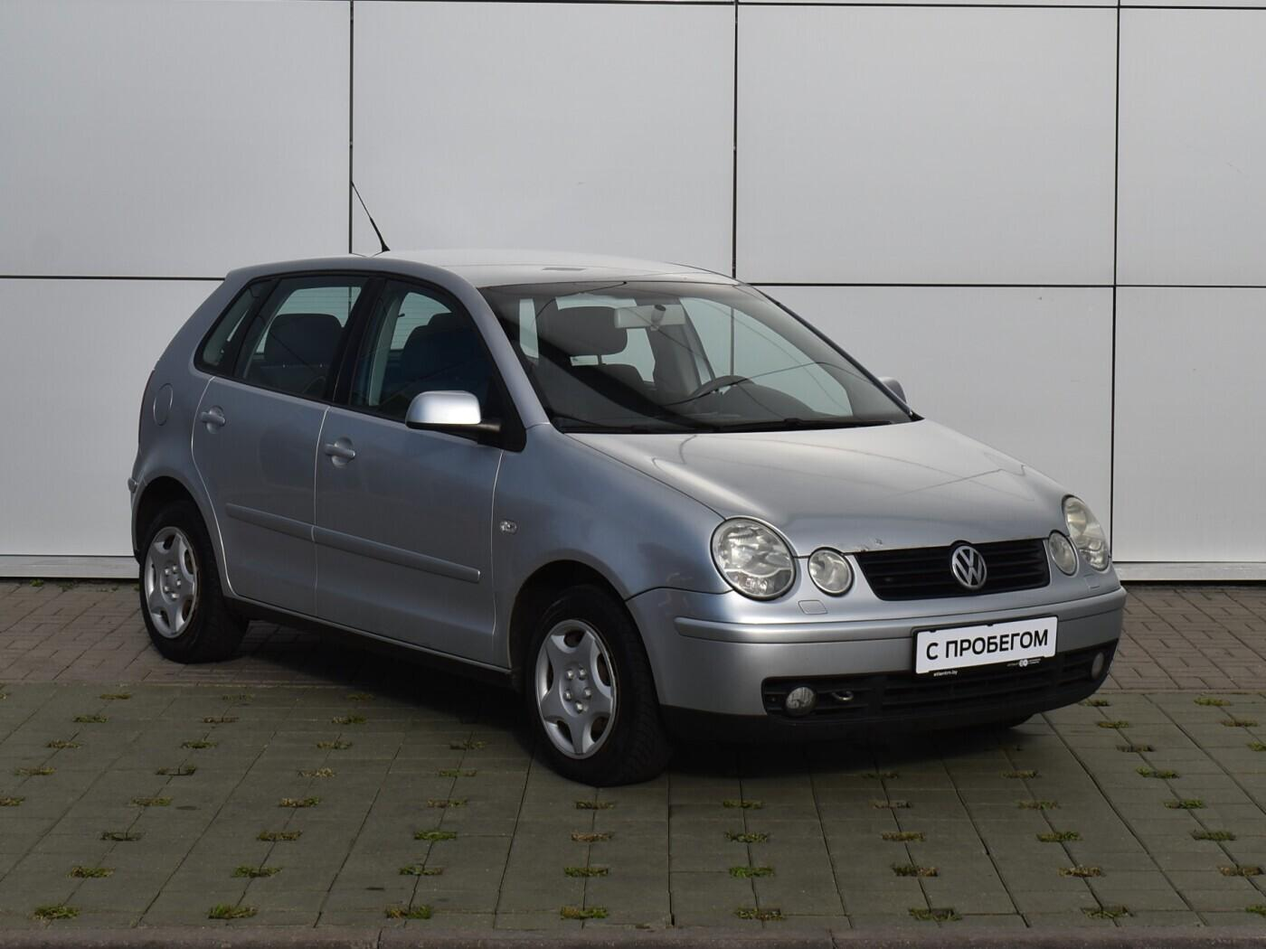Polo_2001-2005: (118, 237, 1126, 802)
